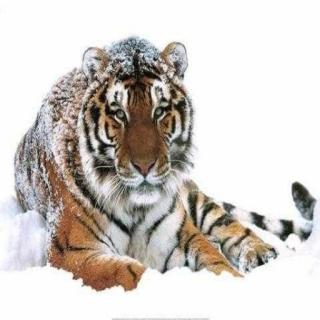Tiger: (0, 34, 319, 307)
